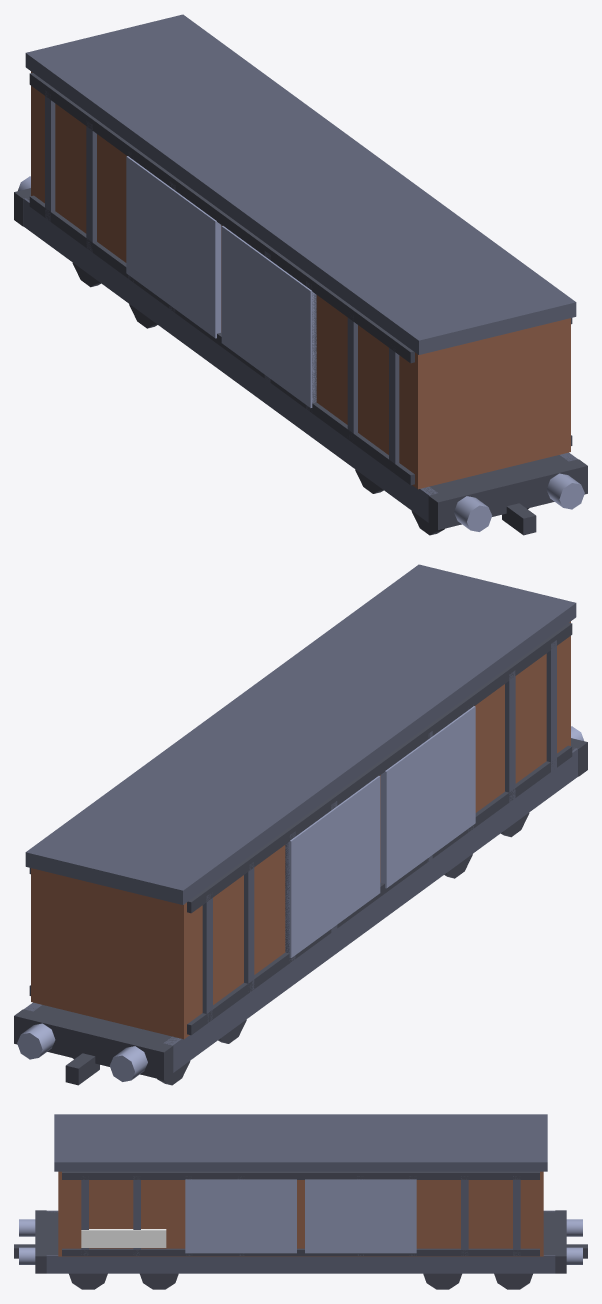
The model's file is wagon-marchandises.glb.
3 views of the same model, one above another, from view 1: azimuth 30°, elevation 25°; view 2: azimuth 150°, elevation 25°; view 3: azimuth 270°, elevation 25° (orthographic). The views are drawn at different scales.
Visible parts, largest first — view 1: toit, caisse, vantail-g1, vantail-g2, brancard-g, rail-porte-g, traverse-tete-ar, seuil-porte-g, longrine, nervure-g-1, nervure-g-0, nervure-g-b1 (+4 smaller); view 2: toit, caisse, vantail-g2, vantail-g1, brancard-g, rail-porte-g, traverse-tete-av, seuil-porte-g, nervure-g-b1, longrine, nervure-g-b0, nervure-g-1 (+4 smaller); view 3: toit, caisse, brancard-d, vantail-d1, vantail-d2, rail-porte-d, seuil-porte-d, bandeau-numero, longrine, traverse-tete-av, traverse-tete-ar, nervure-d-0 (+11 smaller).
Part boxes in pixels (left/top/right/bottom): toit: left=25, top=14, right=576, bottom=354; caisse: left=31, top=71, right=570, bottom=489; vantail-g1: left=126, top=156, right=221, bottom=338; vantail-g2: left=221, top=226, right=316, bottom=407; brancard-g: left=23, top=198, right=437, bottom=522; rail-porte-g: left=29, top=72, right=414, bottom=363; traverse-tete-ar: left=428, top=459, right=587, bottom=530; seuil-porte-g: left=29, top=195, right=414, bottom=485; longrine: left=26, top=197, right=572, bottom=494; nervure-g-1: left=86, top=121, right=96, bottom=252; nervure-g-0: left=45, top=90, right=55, bottom=221; nervure-g-b1: left=347, top=315, right=357, bottom=438; toit: left=25, top=564, right=576, bottom=904; caisse: left=31, top=621, right=570, bottom=1039; vantail-g2: left=380, top=706, right=475, bottom=888; vantail-g1: left=285, top=776, right=380, bottom=957; brancard-g: left=163, top=748, right=578, bottom=1072; rail-porte-g: left=187, top=622, right=572, bottom=913; traverse-tete-av: left=14, top=1009, right=173, bottom=1080; seuil-porte-g: left=187, top=745, right=572, bottom=1035; nervure-g-b1: left=505, top=670, right=515, bottom=802; longrine: left=28, top=747, right=575, bottom=1044; nervure-g-b0: left=546, top=640, right=556, bottom=771; nervure-g-1: left=244, top=862, right=254, bottom=991; toit: left=54, top=1114, right=547, bottom=1171; caisse: left=58, top=1171, right=543, bottom=1256; brancard-d: left=46, top=1255, right=555, bottom=1273; vantail-d1: left=305, top=1179, right=416, bottom=1253; vantail-d2: left=185, top=1179, right=296, bottom=1253; rail-porte-d: left=62, top=1171, right=539, bottom=1179; seuil-porte-d: left=62, top=1248, right=539, bottom=1256; bandeau-numero: left=81, top=1229, right=166, bottom=1247; longrine: left=46, top=1211, right=555, bottom=1255; traverse-tete-av: left=555, top=1210, right=566, bottom=1273; traverse-tete-ar: left=35, top=1210, right=46, bottom=1273; nervure-d-0: left=513, top=1176, right=520, bottom=1255.
Size of the model in its own units: 0.155 by 0.1967 by 0.745.
